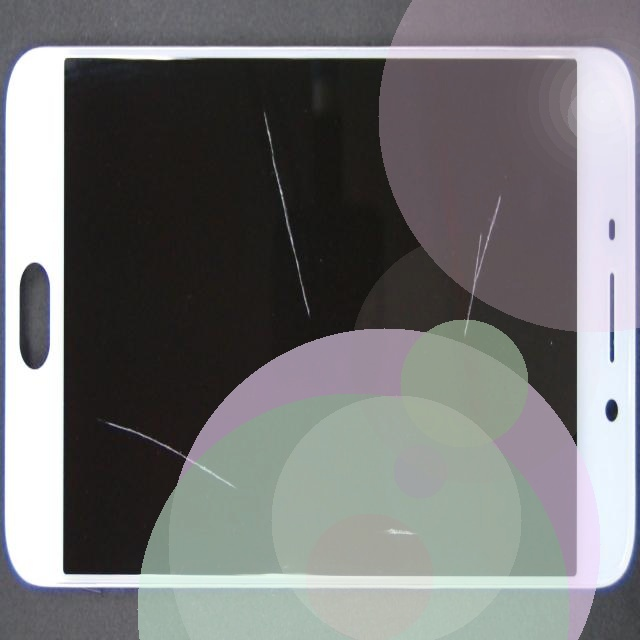scratch: (238, 267, 619, 640), (276, 0, 640, 337), (0, 132, 211, 640), (164, 188, 478, 464)
